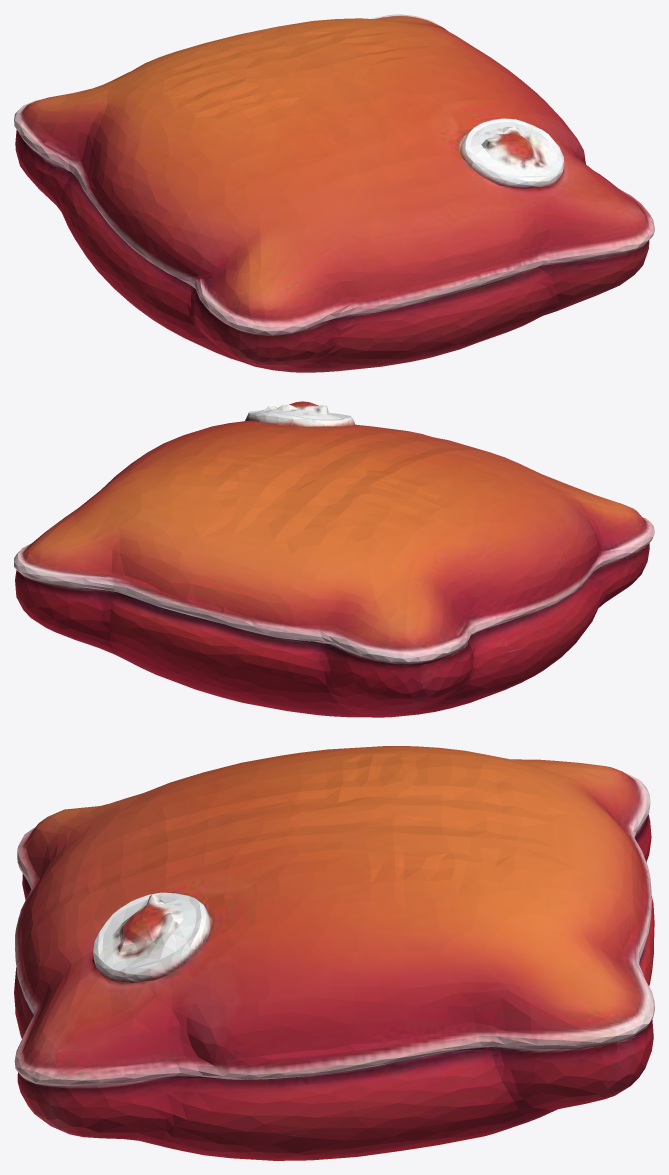
The model's file is heat_pack.glb.
The picture shows the model from 3 angles, top to bottom: view 1: azimuth 30°, elevation 25°; view 2: azimuth 150°, elevation 25°; view 3: azimuth 270°, elevation 25°; orthographic projection. The views are drawn at different scales.
Visible parts, largest first — view 1: tmp_2_06ea2.ply; view 2: tmp_2_06ea2.ply; view 3: tmp_2_06ea2.ply.
Boxes of the visible parts, x1,y1,x2,y2 form: tmp_2_06ea2.ply: (14,14,654,372); tmp_2_06ea2.ply: (14,401,654,717); tmp_2_06ea2.ply: (14,746,654,1160).
Bounding box in the file's own units: 2 × 0.9458 × 2.
Materials: 1 (1 with a texture image).
